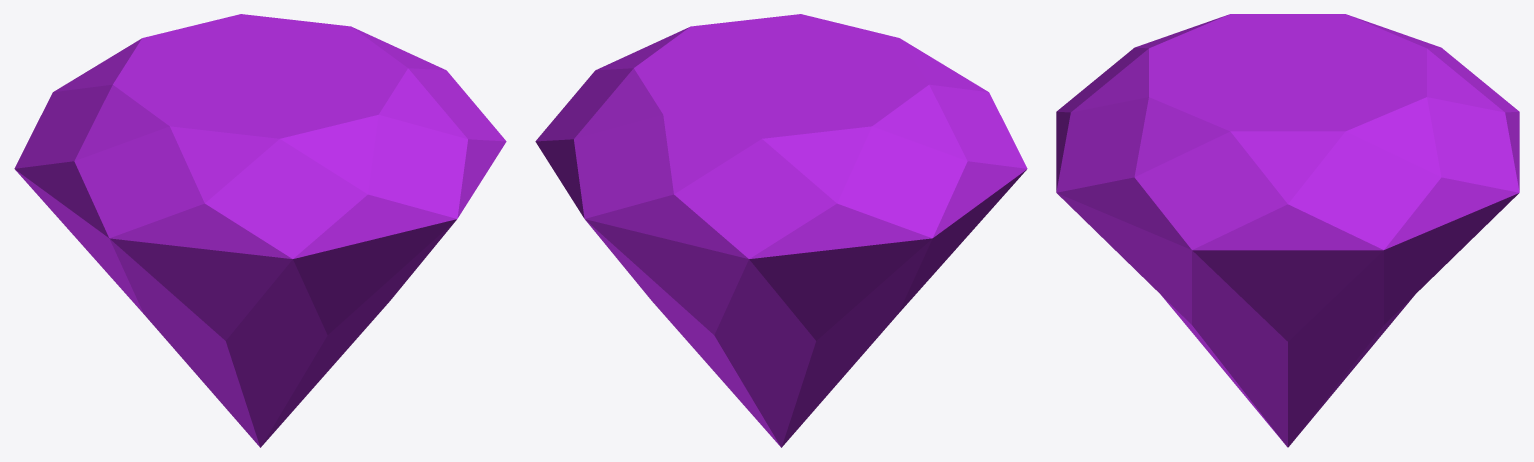
The picture shows the model from 3 angles, left to right: view 1: azimuth 30°, elevation 25°; view 2: azimuth 150°, elevation 25°; view 3: azimuth 270°, elevation 25°; orthographic projection.
Visible parts, largest first — view 1: Gem; view 2: Gem; view 3: Gem.
Part boxes in pixels (<box>): Gem: <box>14,14,506,447</box>; Gem: <box>535,14,1027,447</box>; Gem: <box>1056,14,1519,447</box>.
Bounding box in the file's own units: 57.97 × 51.81 × 57.97.
